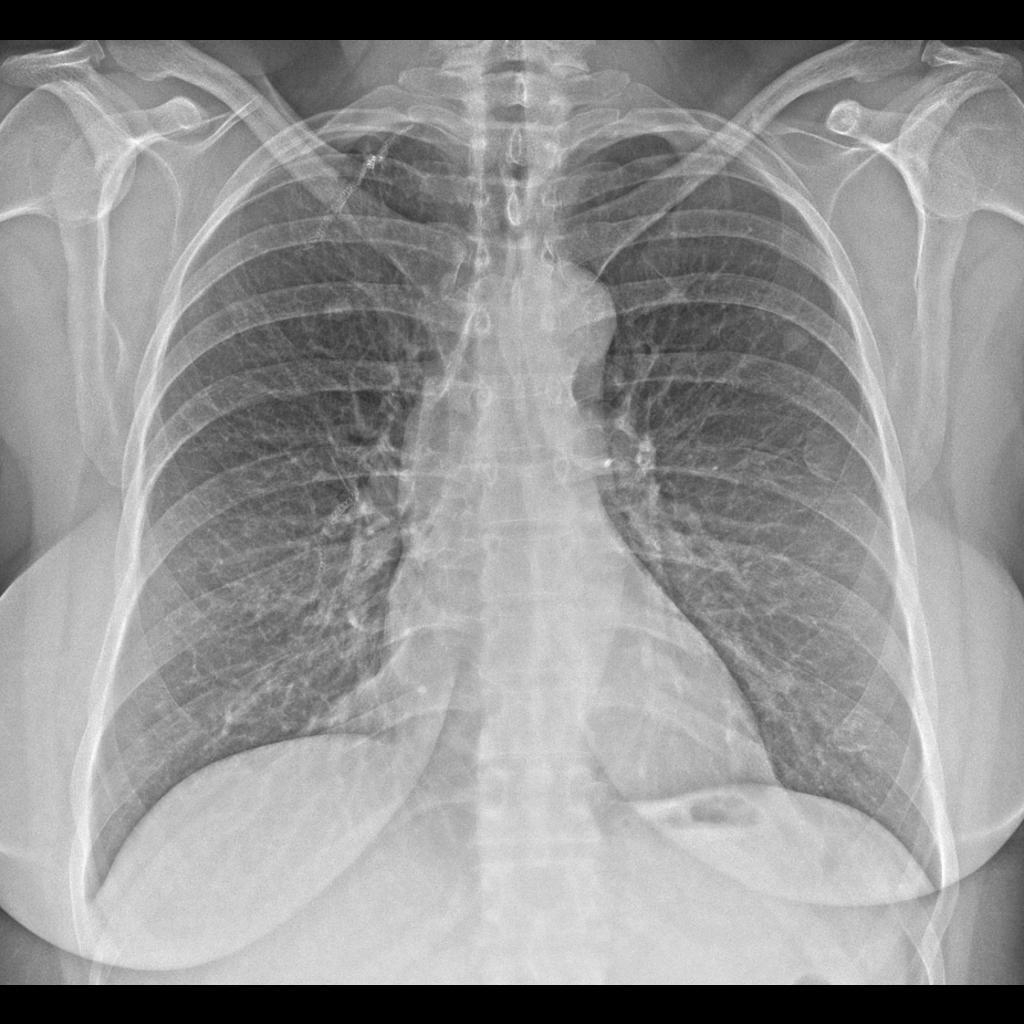Nodule: (773, 318, 815, 362)
